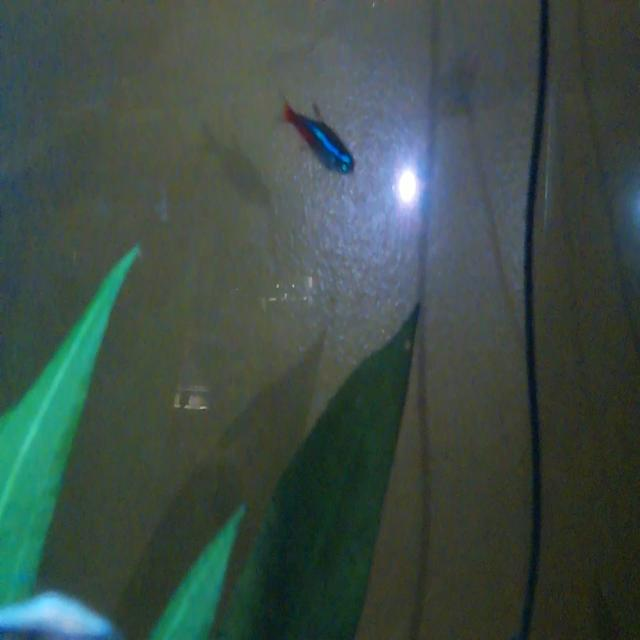fish: (278, 86, 367, 190)
